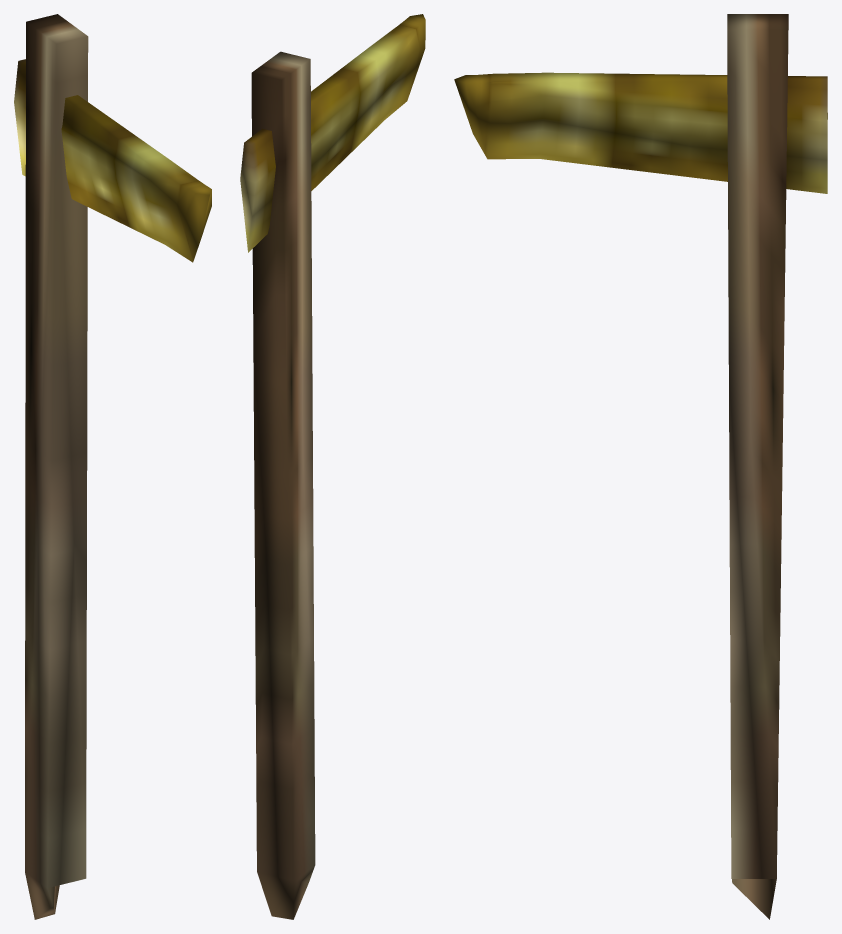
The model's file is yayoi_axe_01.dae.
3 views of the same model, side by side, from view 1: azimuth 30°, elevation 25°; view 2: azimuth 150°, elevation 25°; view 3: azimuth 270°, elevation 25° (orthographic). The views are drawn at different scales.
Visible parts, largest first — view 1: yayo_axxe_a; view 2: yayo_axxe_a; view 3: yayo_axxe_a.
Boxes of the visible parts, left/top/right/bottom form: yayo_axxe_a: left=14, top=14, right=211, bottom=919; yayo_axxe_a: left=240, top=14, right=425, bottom=919; yayo_axxe_a: left=454, top=14, right=827, bottom=919.
Bounding box in the file's own units: 0.0815 × 0.6761 × 1.79.
1 material, 1 textured.
